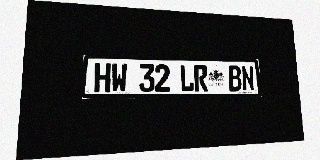2: (155, 64, 170, 92)
3: (139, 64, 155, 92)
B: (228, 65, 242, 91)
H: (94, 63, 111, 92)
L: (179, 65, 194, 92)
N: (241, 66, 255, 91)
R: (194, 65, 208, 92)
W: (111, 63, 127, 92)
